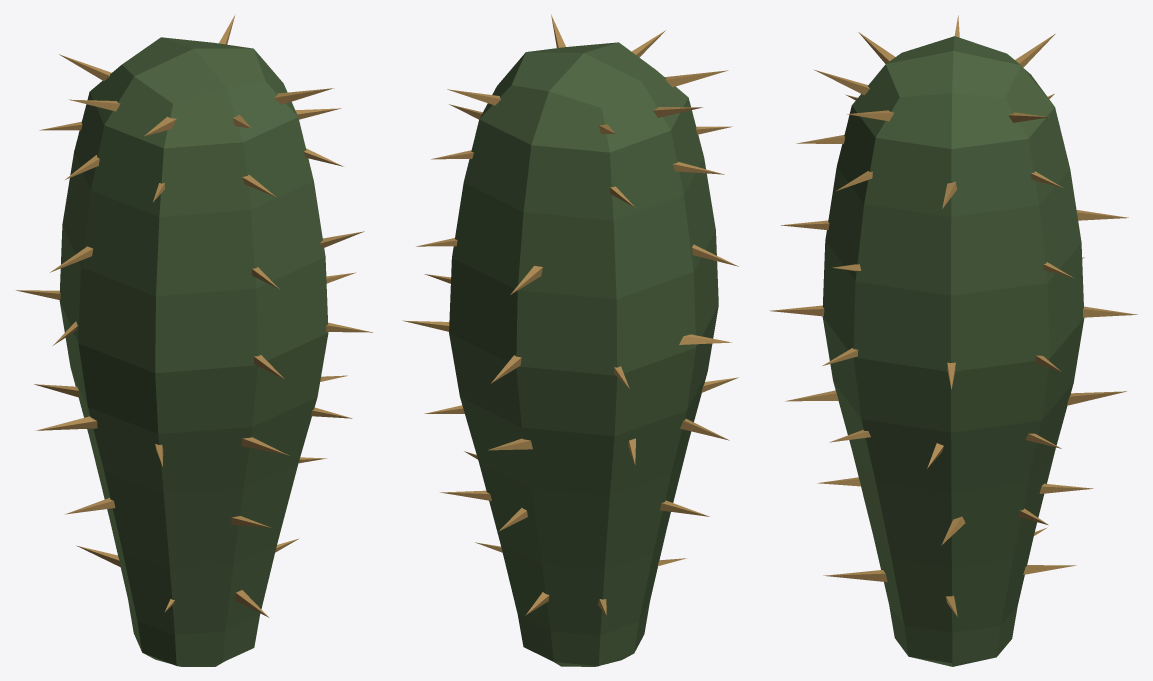
File: Cactus_1.gltf
3 renders of one model, left to right at view 1: azimuth 30°, elevation 25°; view 2: azimuth 150°, elevation 25°; view 3: azimuth 270°, elevation 25°, orthographic.
Parts seen in each view (by area): view 1: Cactus_1; view 2: Cactus_1; view 3: Cactus_1.
Part boxes in pixels (x1,y1,x2,y2): Cactus_1: [16, 14, 372, 666]; Cactus_1: [402, 14, 738, 666]; Cactus_1: [769, 15, 1137, 666].
Size of the model in its own units: 0.5497 by 1.01 by 0.5629.
